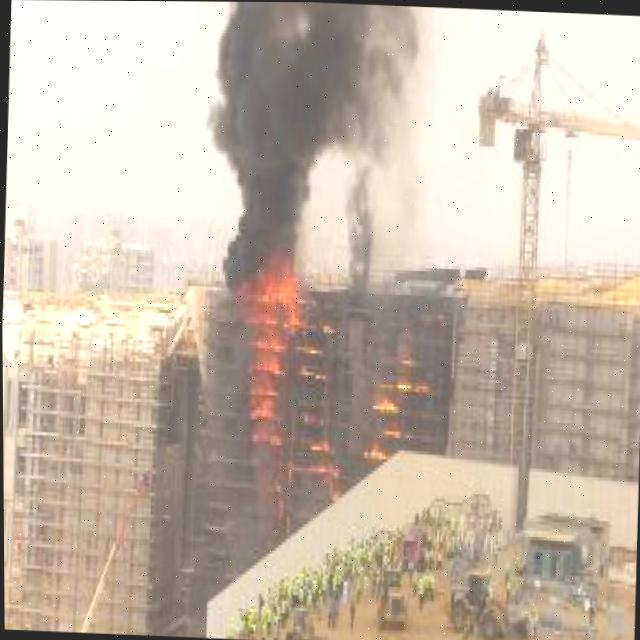fire: (235, 260, 307, 444)
smoke: (208, 1, 419, 295), (191, 304, 260, 635)
